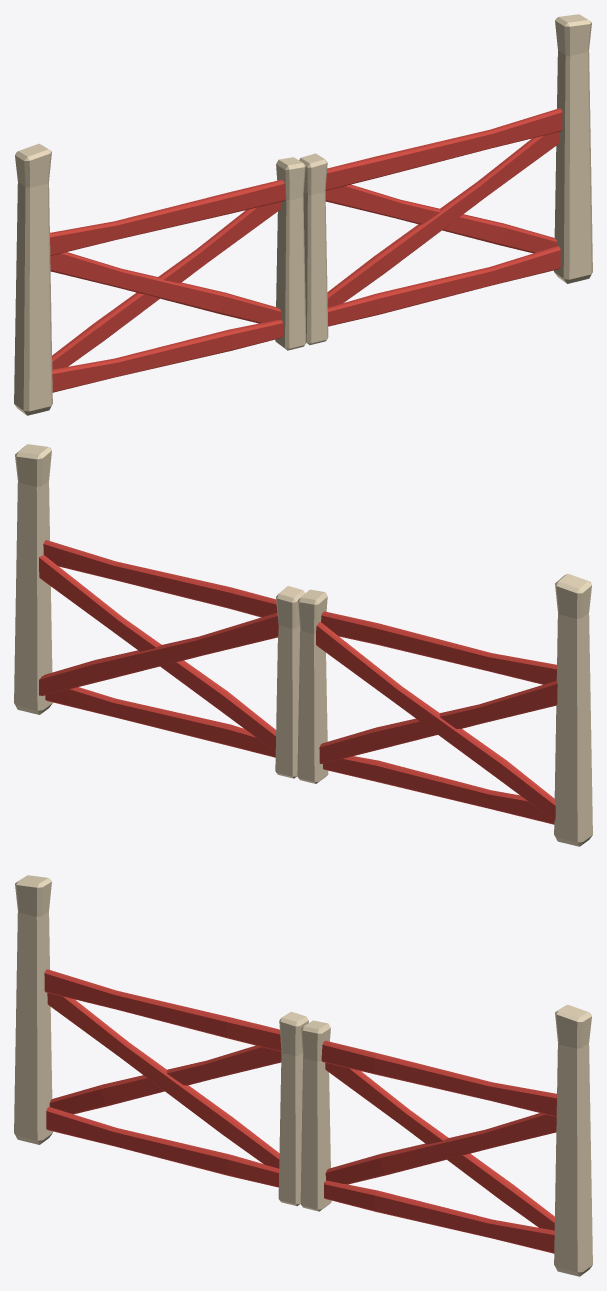
File: gate_b.gltf
3 views of the same model, one above another, from view 1: azimuth 30°, elevation 25°; view 2: azimuth 150°, elevation 25°; view 3: azimuth 330°, elevation 25° (orthographic).
Visible parts, largest first — view 1: gate_b001; view 2: gate_b001; view 3: gate_b001.
Boxes of the visible parts, <box> form: gate_b001: <box>14,14,592,415</box>; gate_b001: <box>14,444,592,846</box>; gate_b001: <box>14,875,592,1276</box>.
Bounding box in the file's own units: 2.6 × 1.14 × 0.1181.
Materials: 1 (1 with a texture image).
